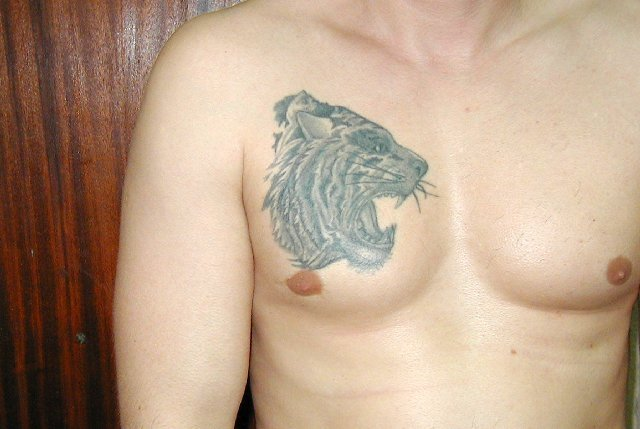tatu5_tigr: (252, 87, 444, 276)
